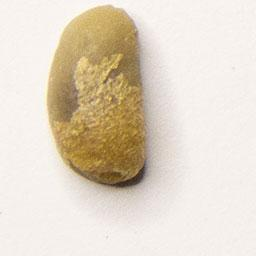longberry: (45, 2, 149, 190)
